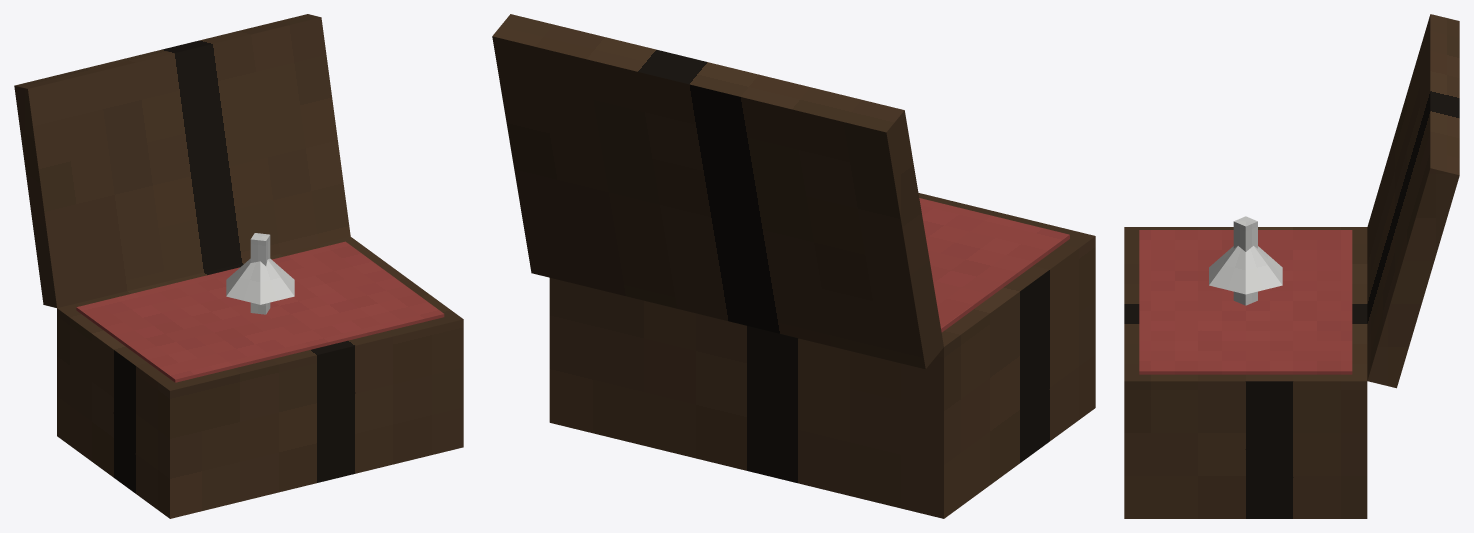
File: int_music_box.glb
The picture shows the model from 3 angles, left to right: view 1: azimuth 30°, elevation 25°; view 2: azimuth 150°, elevation 25°; view 3: azimuth 270°, elevation 25°; orthographic projection. The views are drawn at different scales.
Parts seen in each view (by area): view 1: detail; view 2: detail; view 3: detail.
Part boxes in pixels (x1,y1,x2,y2): detail: (14,14,463,518); detail: (492,14,1095,518); detail: (1124,14,1459,518).
Size of the model in its own units: 0.24 by 0.2545 by 0.2207.
Materials: 3 (3 with a texture image).
